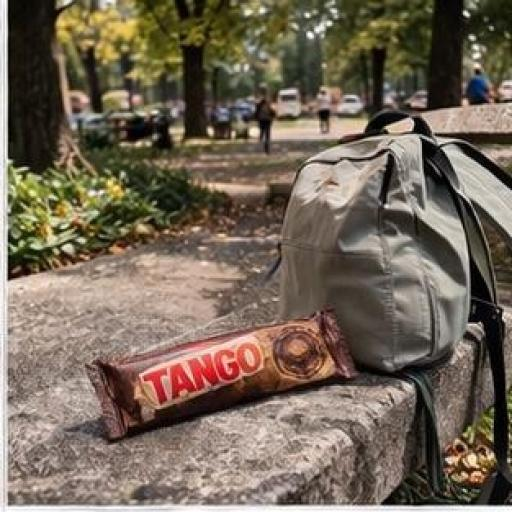tango: (64, 296, 406, 453)
